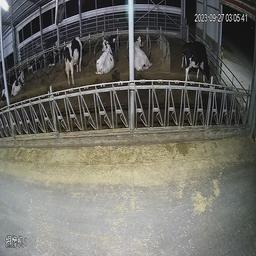cow: (181, 31, 221, 88), (60, 38, 89, 84), (93, 38, 122, 79), (133, 30, 155, 72), (9, 70, 33, 97), (43, 46, 57, 70)
